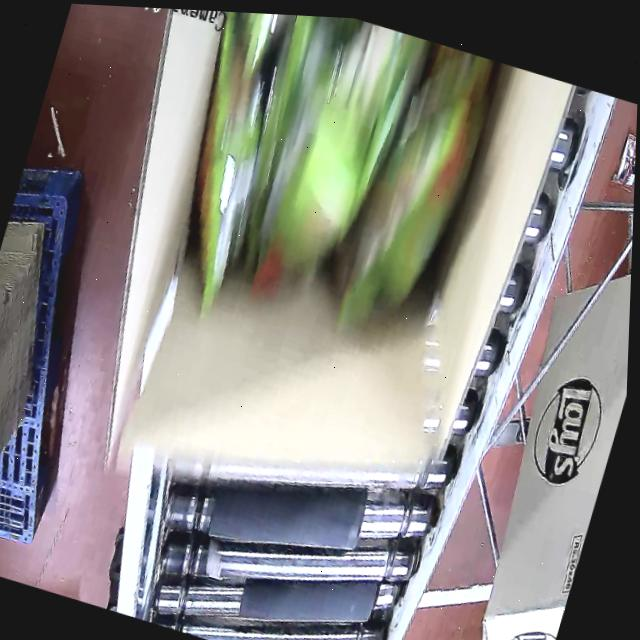YOGURT_HERB: (153, 9, 508, 374)
